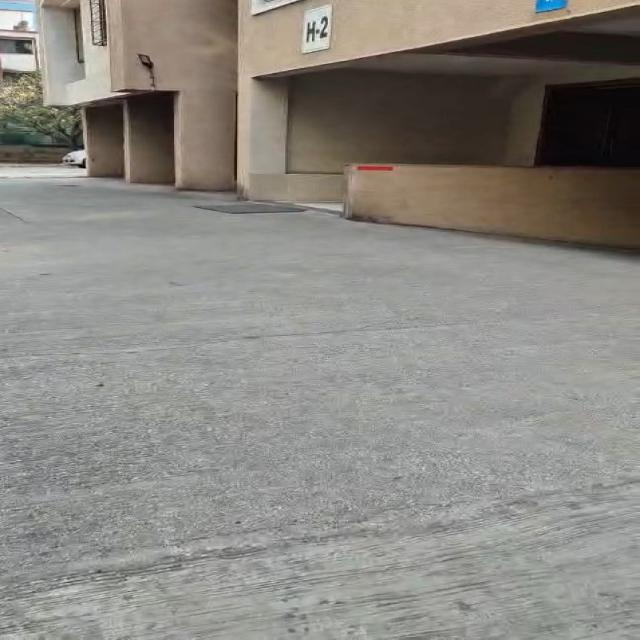vehicle: (182, 198, 303, 218)
